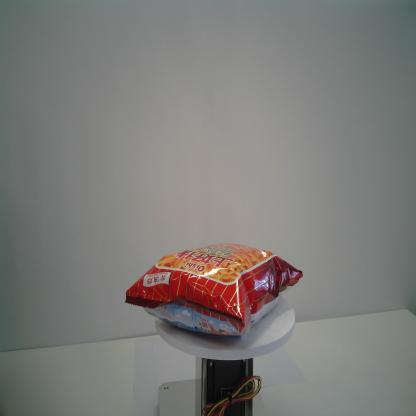Puffed Food: (125, 242, 303, 336)
